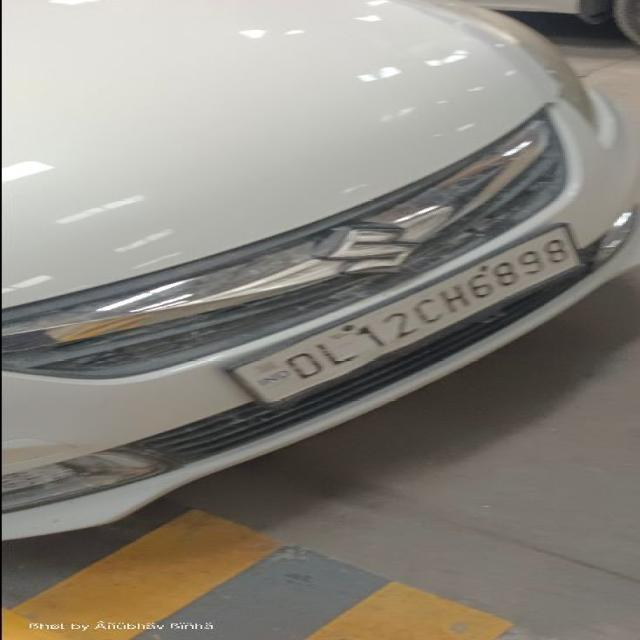license_plate: (1, 0, 636, 542), (222, 220, 588, 406)
